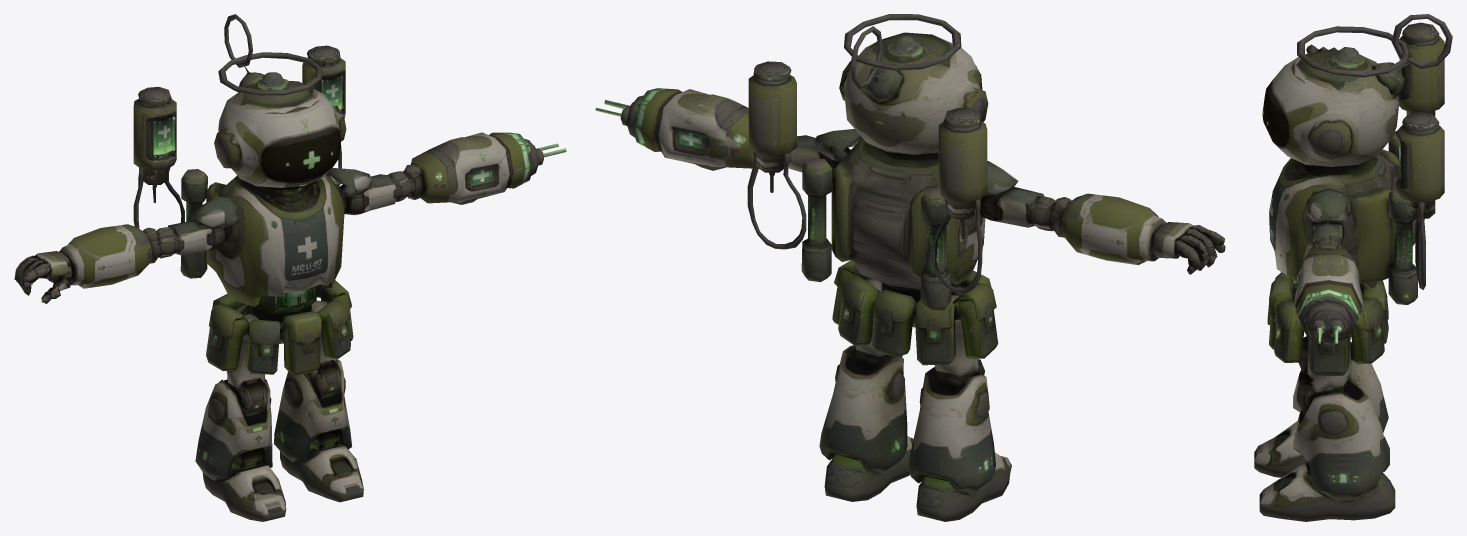
File: 019e01c7-587b-757d-bac1-f7fa3df7676e.glb
The picture shows the model from 3 angles, left to right: view 1: azimuth 30°, elevation 25°; view 2: azimuth 150°, elevation 25°; view 3: azimuth 270°, elevation 25°; orthographic projection. The views are drawn at different scales.
Parts seen in each view (by area): view 1: tripo_node_c942b3cc-44a4-433b-b223-4d2e8a832bde; view 2: tripo_node_c942b3cc-44a4-433b-b223-4d2e8a832bde; view 3: tripo_node_c942b3cc-44a4-433b-b223-4d2e8a832bde.
Boxes of the visible parts, x1,y1,x2,y2 form: tripo_node_c942b3cc-44a4-433b-b223-4d2e8a832bde: [14, 14, 566, 521]; tripo_node_c942b3cc-44a4-433b-b223-4d2e8a832bde: [595, 14, 1225, 521]; tripo_node_c942b3cc-44a4-433b-b223-4d2e8a832bde: [1254, 14, 1452, 521].
Size of the model in its own units: 0.998 by 0.7676 by 0.291.
1 material, 1 textured.
